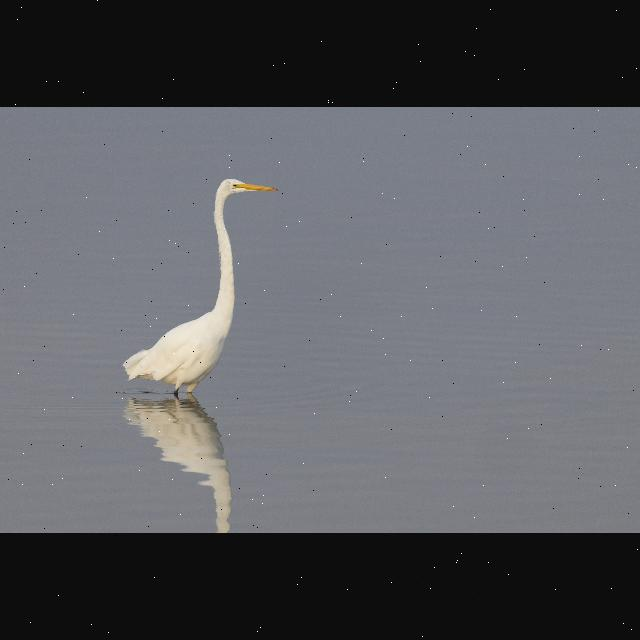egret: (114, 174, 282, 410)
